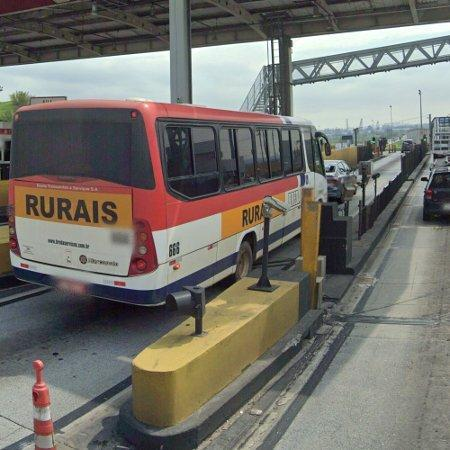buses: (8, 100, 328, 306)
